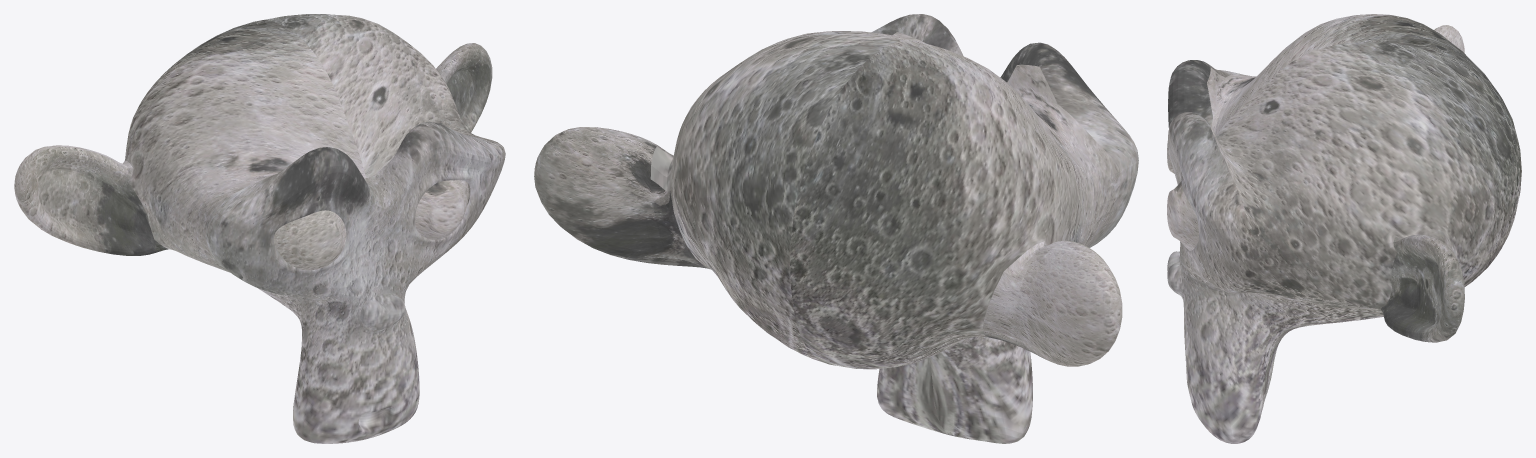
File: suzanne_unlit.glb
The picture shows the model from 3 angles, left to right: view 1: azimuth 30°, elevation 25°; view 2: azimuth 150°, elevation 25°; view 3: azimuth 270°, elevation 25°; orthographic projection. The views are drawn at different scales.
Visible parts, largest first — view 1: Suzanne; view 2: Suzanne; view 3: Suzanne.
Part boxes in pixels (x1,y1,x2,y2): Suzanne: (14, 14, 505, 443); Suzanne: (534, 14, 1138, 443); Suzanne: (1167, 14, 1521, 443).
Size of the model in its own units: 2.66 by 1.91 by 1.6.
Materials: 1 (1 with a texture image).
